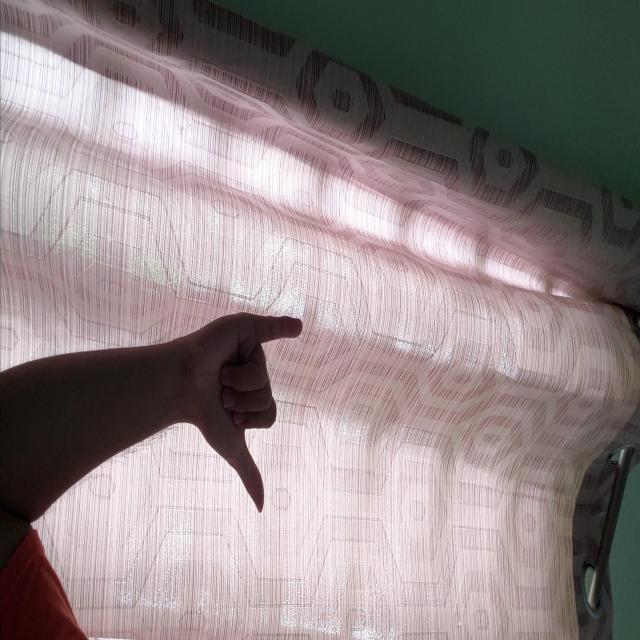Y: (314, 336, 514, 453)
